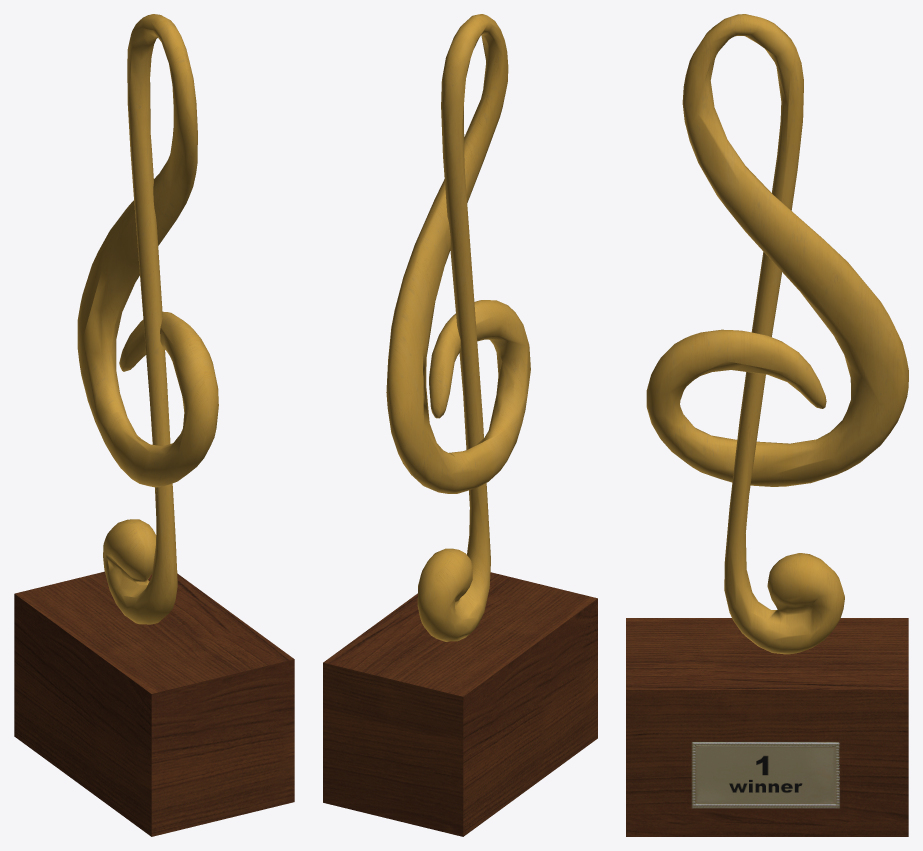
The model's file is Trophy 2.FBX.
3 renders of one model, left to right at view 1: azimuth 30°, elevation 25°; view 2: azimuth 150°, elevation 25°; view 3: azimuth 270°, elevation 25°, orthographic. The views are drawn at different scales.
Visible parts, largest first — view 1: trophy 2; view 2: trophy 2; view 3: trophy 2.
Part boxes in pixels (box(x1,y1,x2,y2)): trophy 2: box(14, 14, 294, 836); trophy 2: box(323, 14, 597, 836); trophy 2: box(626, 14, 908, 836).
Bounding box in the file's own units: 5.87 × 29.86 × 9.77.
2 materials, 2 textured.
